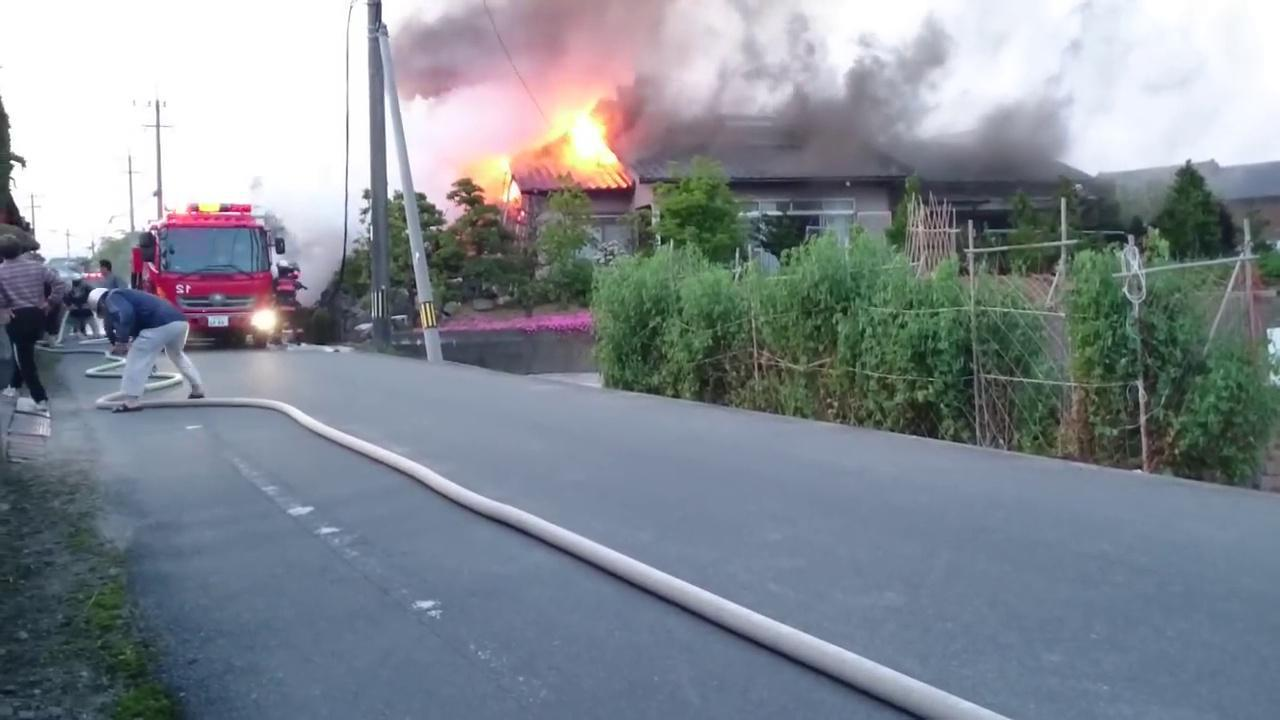Fire: (564, 98, 620, 163), (468, 155, 515, 192)
